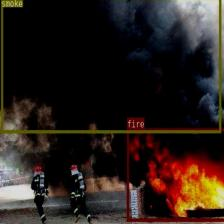fire: (126, 127, 224, 220)
smoke: (1, 0, 221, 132)
